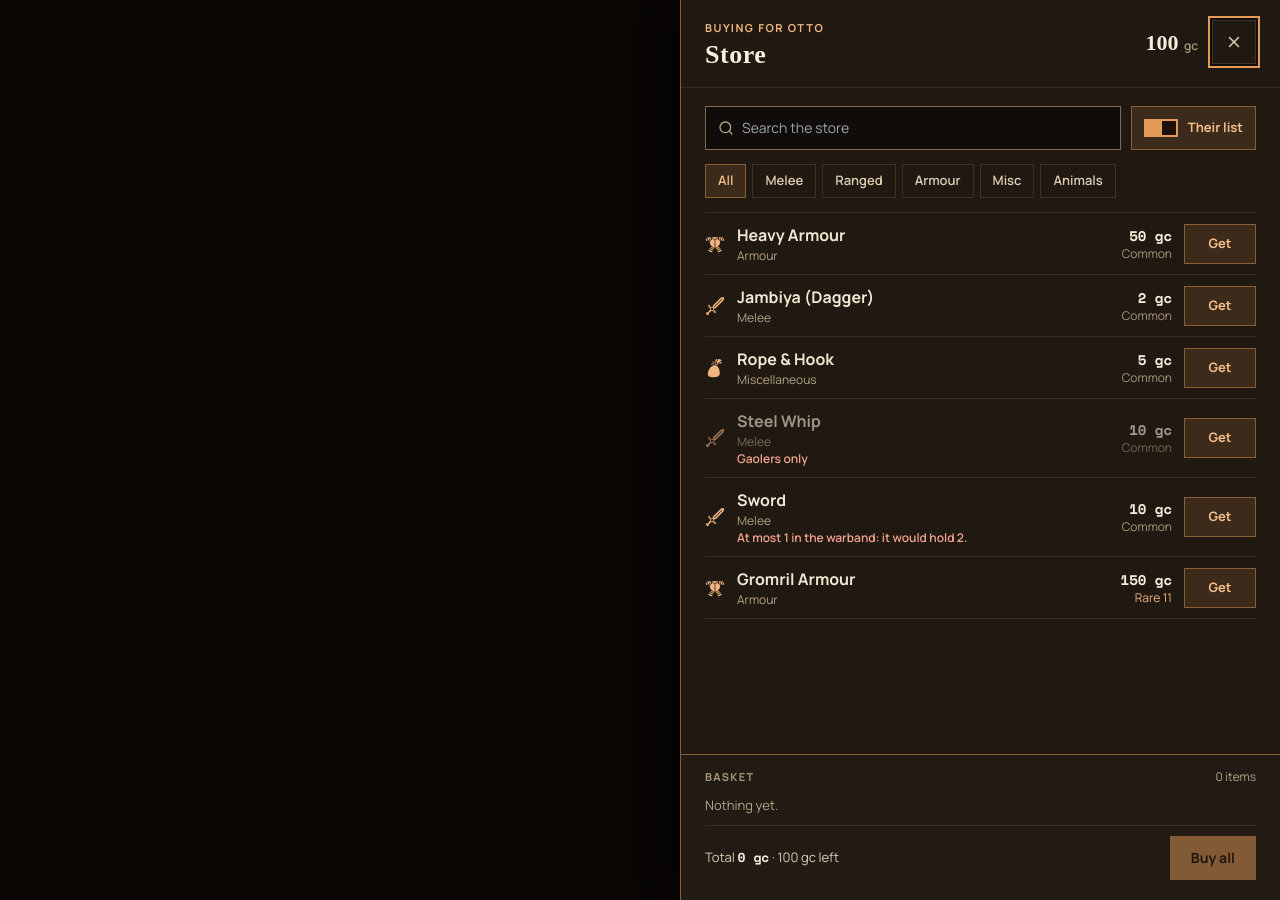
Test: StorePanel, buying for a unit from the template › starts a rare search on the variant's bonus
What coordinates should you click on to do the following:
click the 6th button "Get"
I would click on:
 (1220, 588)
Its box is [1184,568,1256,608].
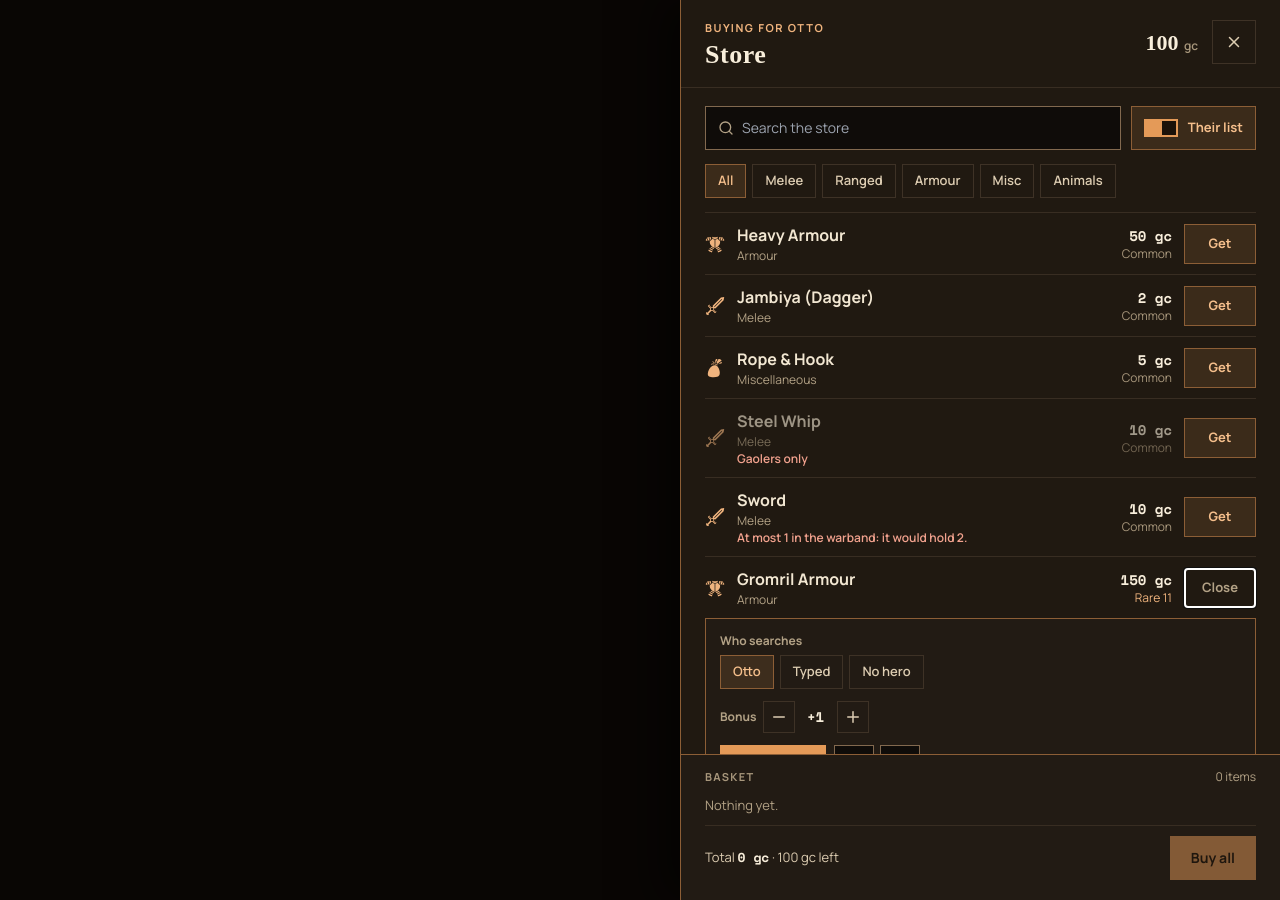
Expected: the text "+1" is shown, [807,706,824,727]
